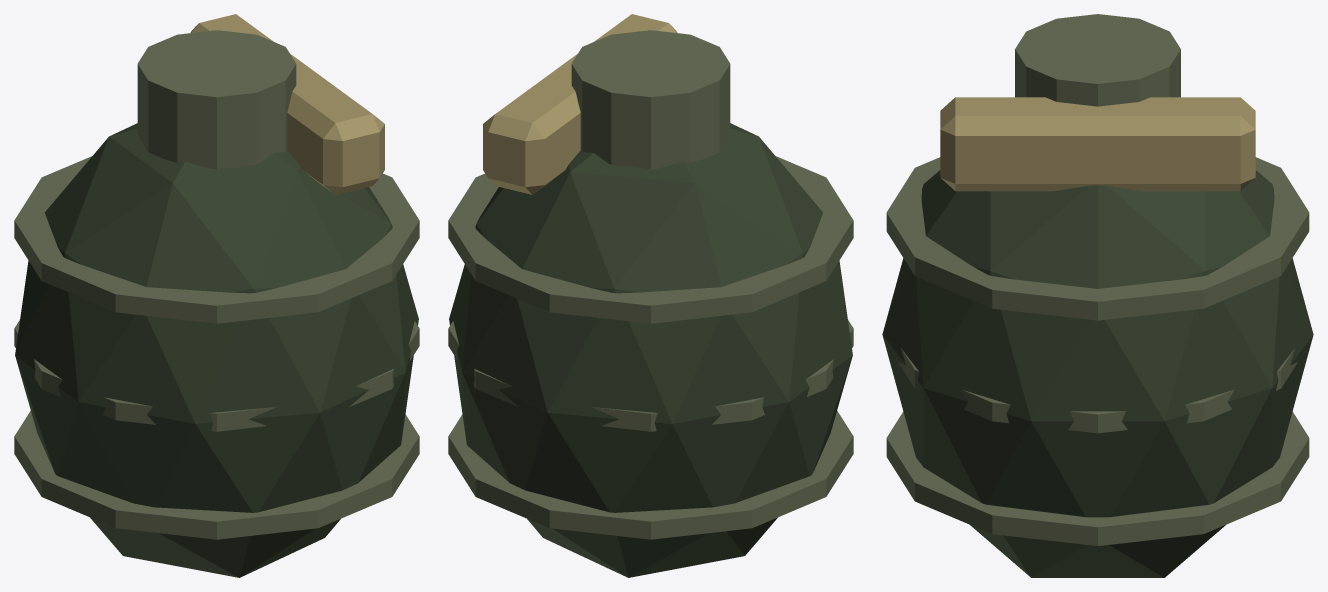
File: projectile_grenade.obj
3 renders of one model, left to right at view 1: azimuth 30°, elevation 25°; view 2: azimuth 150°, elevation 25°; view 3: azimuth 270°, elevation 25°, orthographic. The views are drawn at different scales.
Visible parts, largest first — view 1: projectile_grenade; view 2: projectile_grenade; view 3: projectile_grenade.
Boxes of the visible parts, left/top/right/bottom form: projectile_grenade: left=14, top=14, right=419, bottom=577; projectile_grenade: left=448, top=14, right=853, bottom=577; projectile_grenade: left=882, top=14, right=1313, bottom=577.
Bounding box in the file's own units: 0.51 × 0.7 × 0.52.
1 material, 1 textured.
